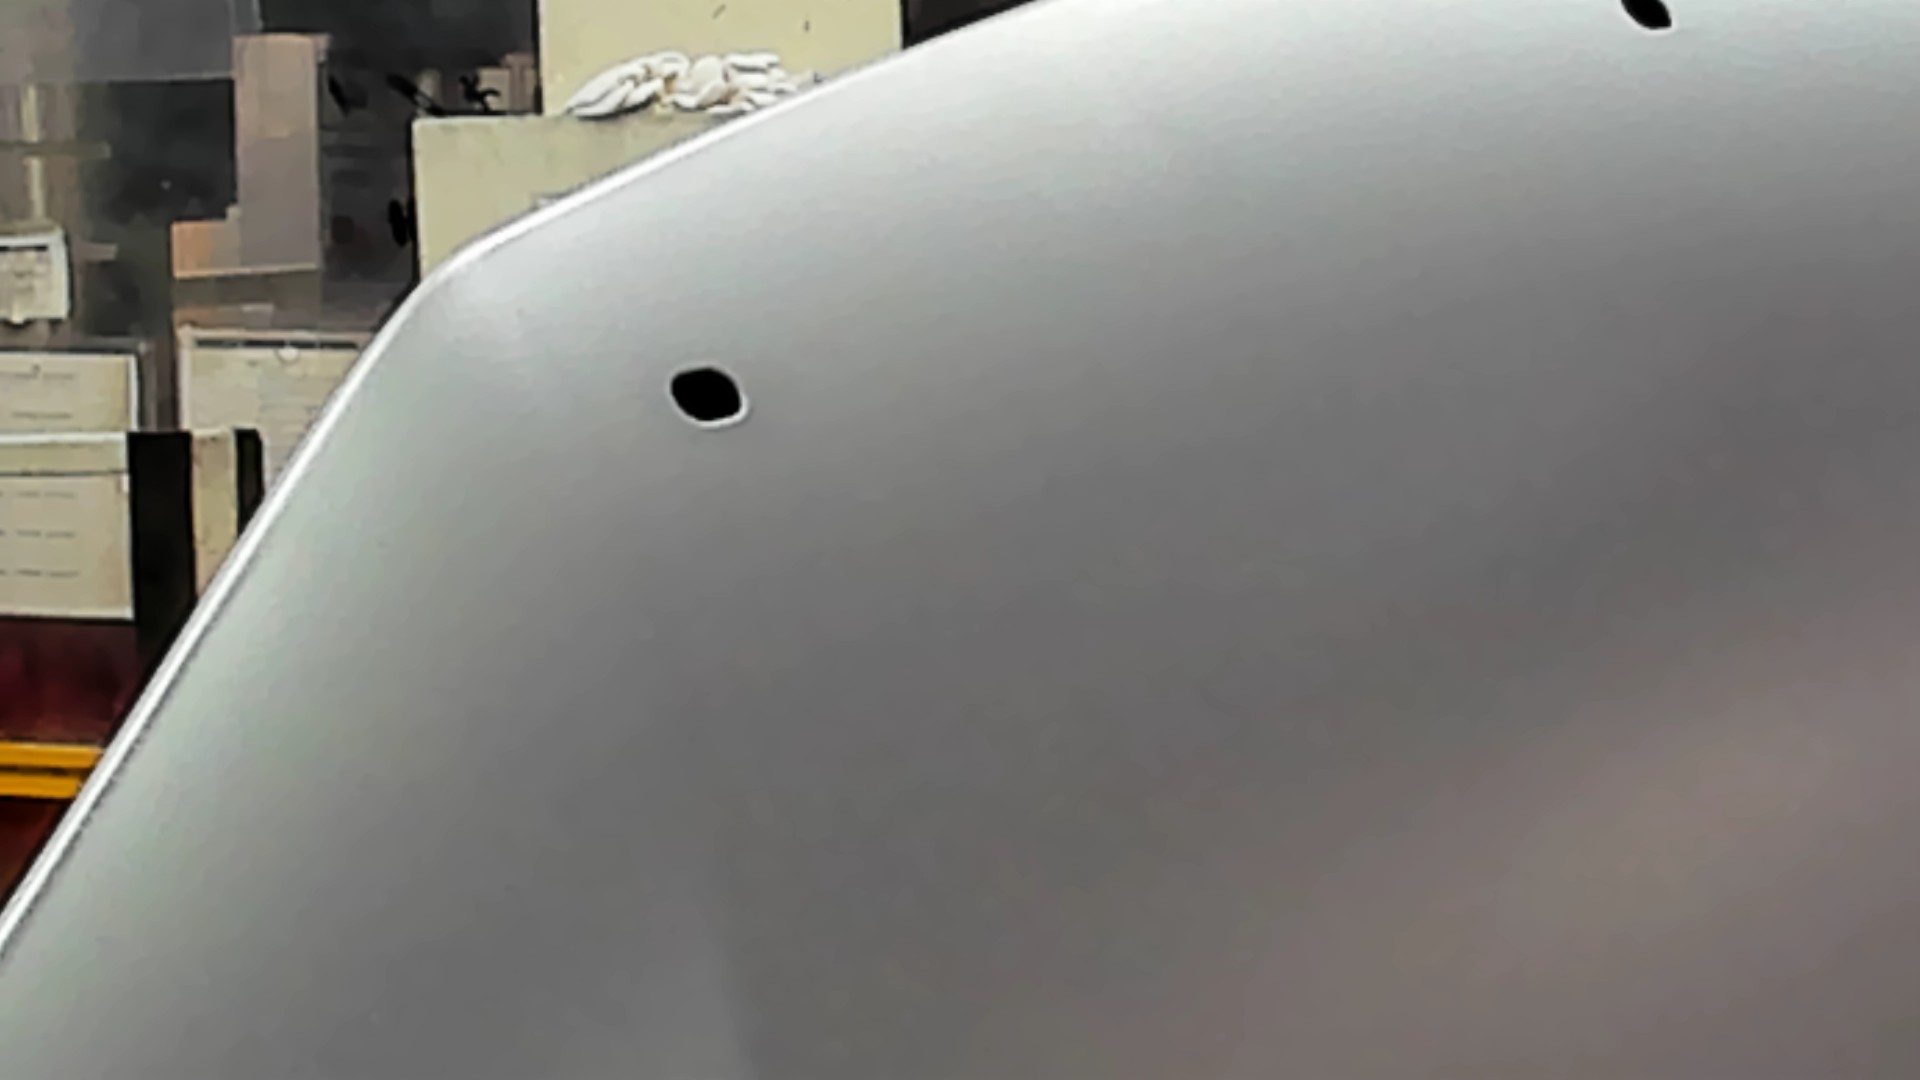amorfo: (663, 364, 756, 431), (1611, 1, 1687, 36)
capo: (868, 100, 1920, 1080)
